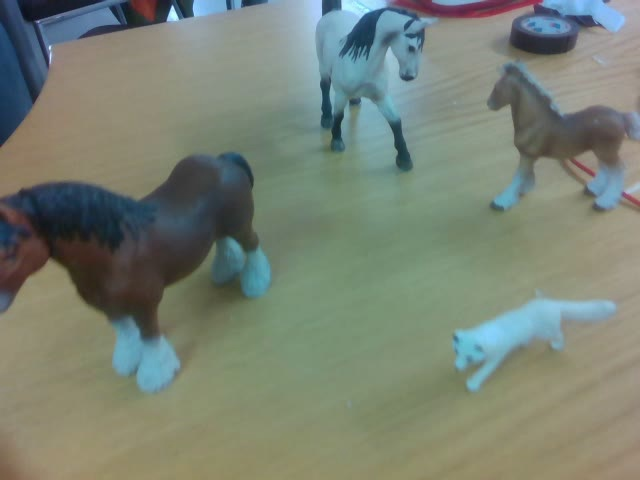toy: (1, 152, 272, 395), (486, 58, 640, 211), (314, 1, 437, 173), (446, 296, 616, 393)
